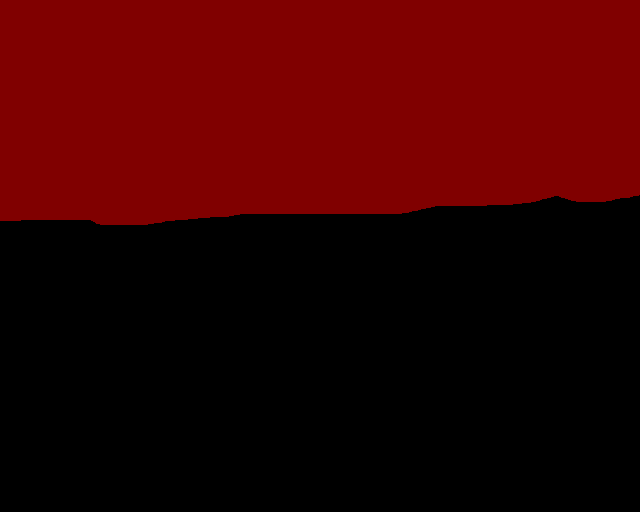Sky: (1, 1, 639, 225)
